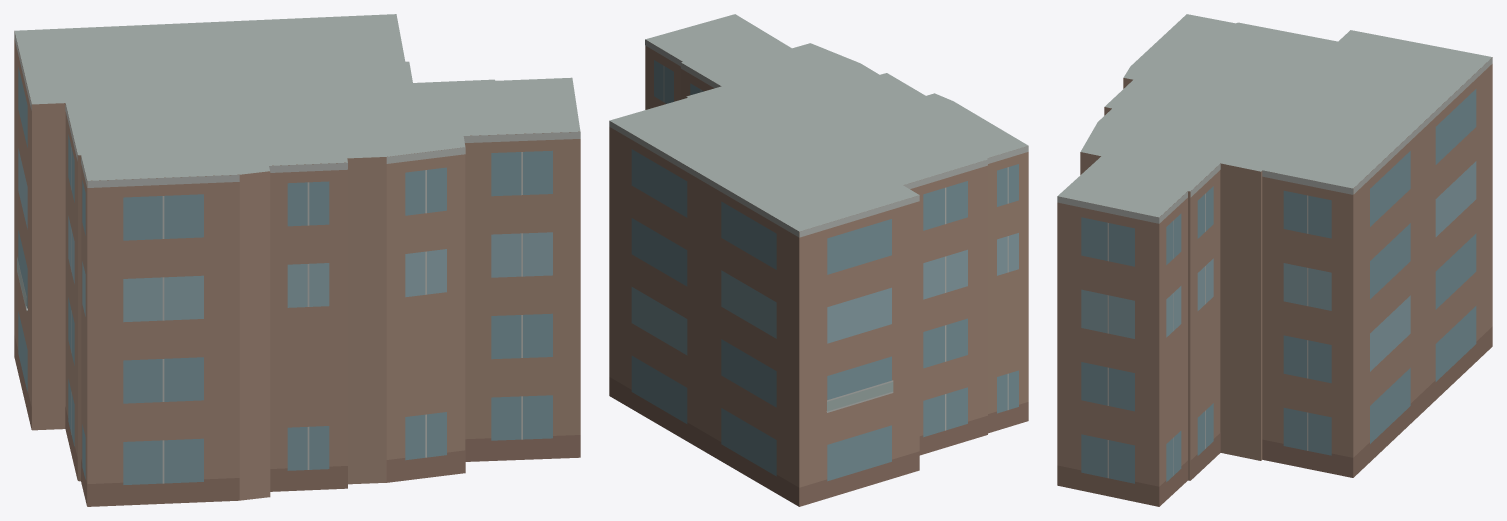
File: survey-upis-32656210.glb
3 renders of one model, left to right at view 1: azimuth 30°, elevation 25°; view 2: azimuth 150°, elevation 25°; view 3: azimuth 270°, elevation 25°, orthographic. The views are drawn at different scales.
Parts seen in each view (by area): view 1: survey-upis-32656210.tmp; view 2: survey-upis-32656210.tmp; view 3: survey-upis-32656210.tmp.
Boxes of the visible parts, x1,y1,x2,y2 form: survey-upis-32656210.tmp: (14,14,580,506); survey-upis-32656210.tmp: (609,14,1028,506); survey-upis-32656210.tmp: (1057,14,1492,506).
Bounding box in the file's own units: 16.75 × 11.1 × 15.14.
